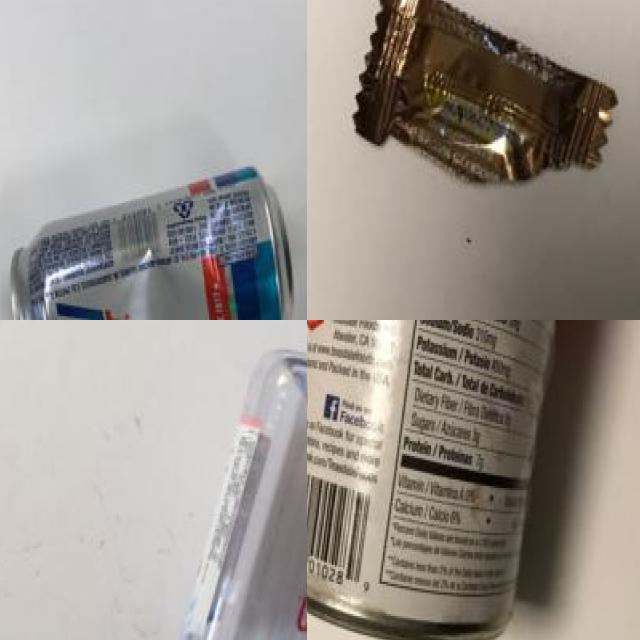plastic: (307, 320, 561, 638), (10, 162, 300, 320), (159, 347, 307, 640)
trash: (345, 0, 640, 217)
